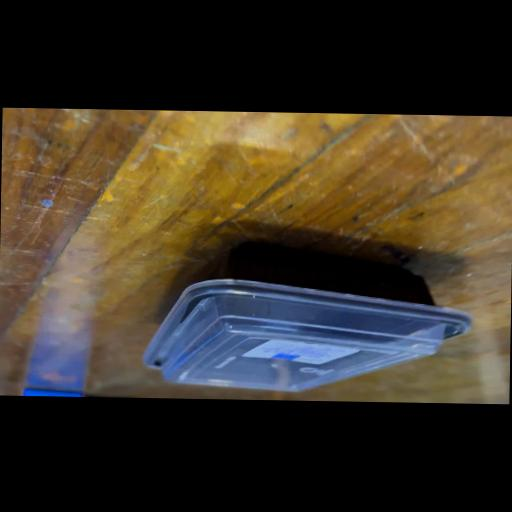rigid_plastic_container: (134, 234, 472, 402)
